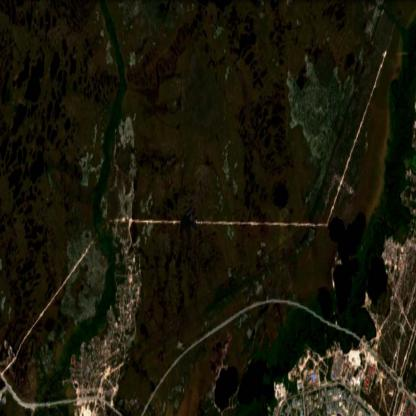oil: (177, 197, 201, 244)
